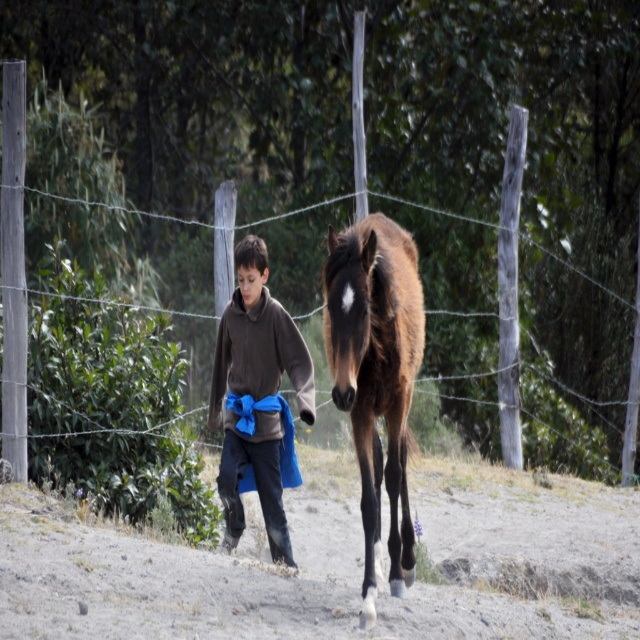Horse: (322, 210, 427, 635)
